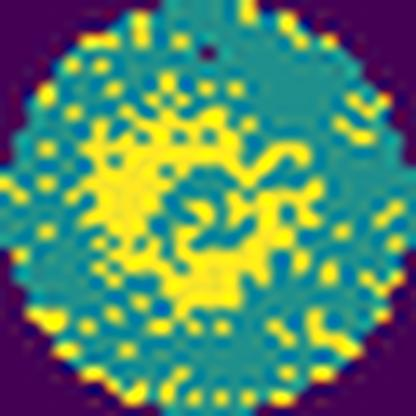Donut: (51, 79, 339, 344)
